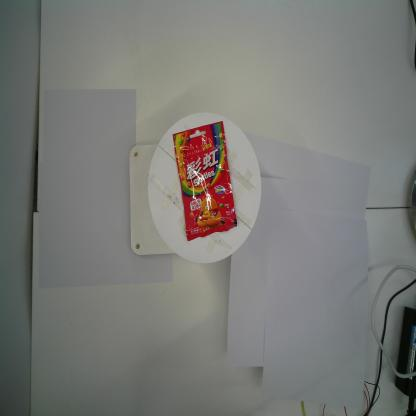Candy: (172, 119, 239, 243)
